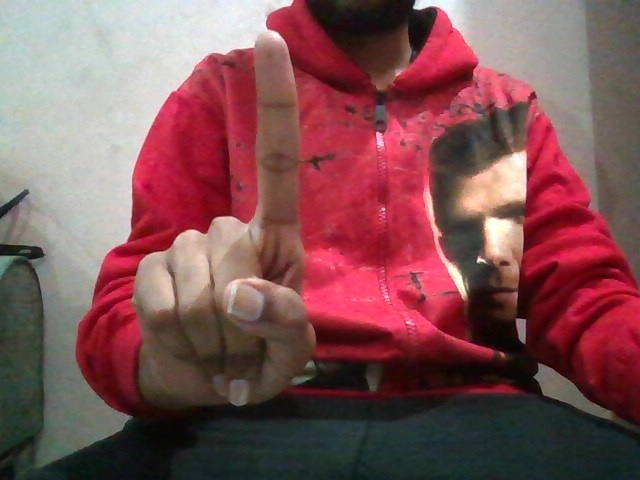D: (125, 24, 338, 411)
